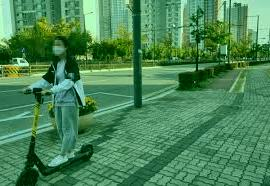nonhelmet: (14, 36, 95, 186)
